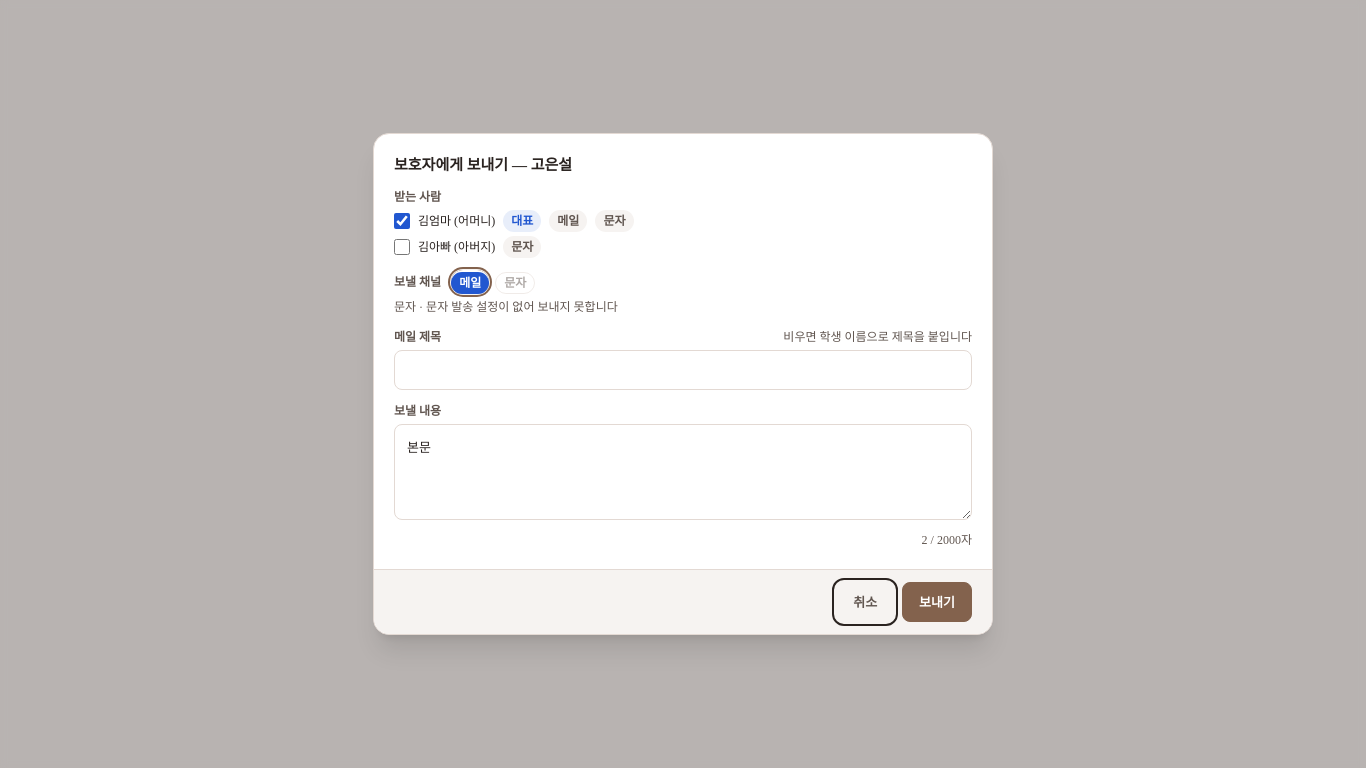
Test case: 고른 채널을 하나도 받지 않는 보호자를 고르면 먼저 알리고 보내기를 잠근다
Expected: the checkbox labelled "김엄마 (어머니)" is checked, top-left (394, 213), bottom-right (410, 229)
Click the checkbox labelled "김아빠 (아버지)" at (402, 247), box top-left (394, 239), bottom-right (410, 255)
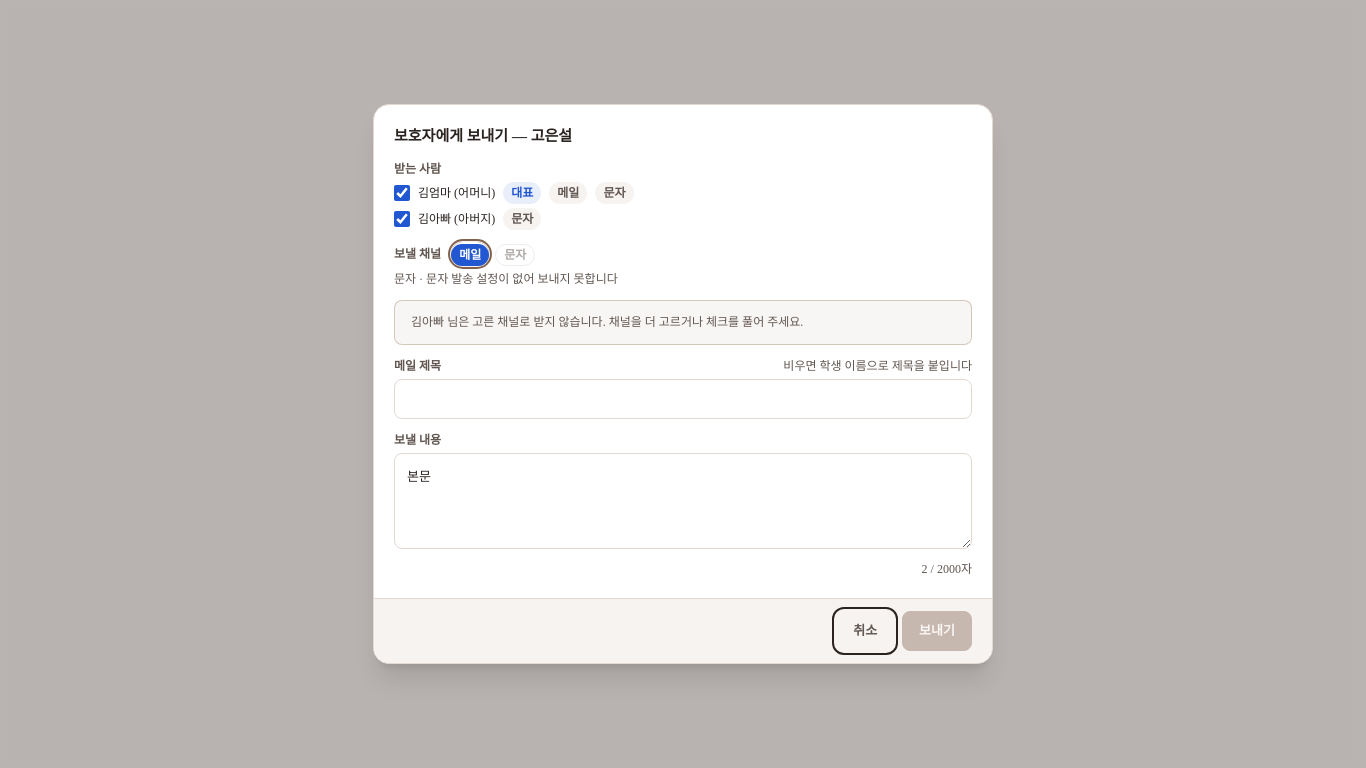
Expected: the text "김아빠 님은 고른 채널로 받지 않습니다. 채널을 더 고르거나 체크를 풀어 주세요." is shown, top-left (394, 300), bottom-right (972, 345)
Expected: the button "보내기" is disabled, top-left (902, 611), bottom-right (972, 651)
